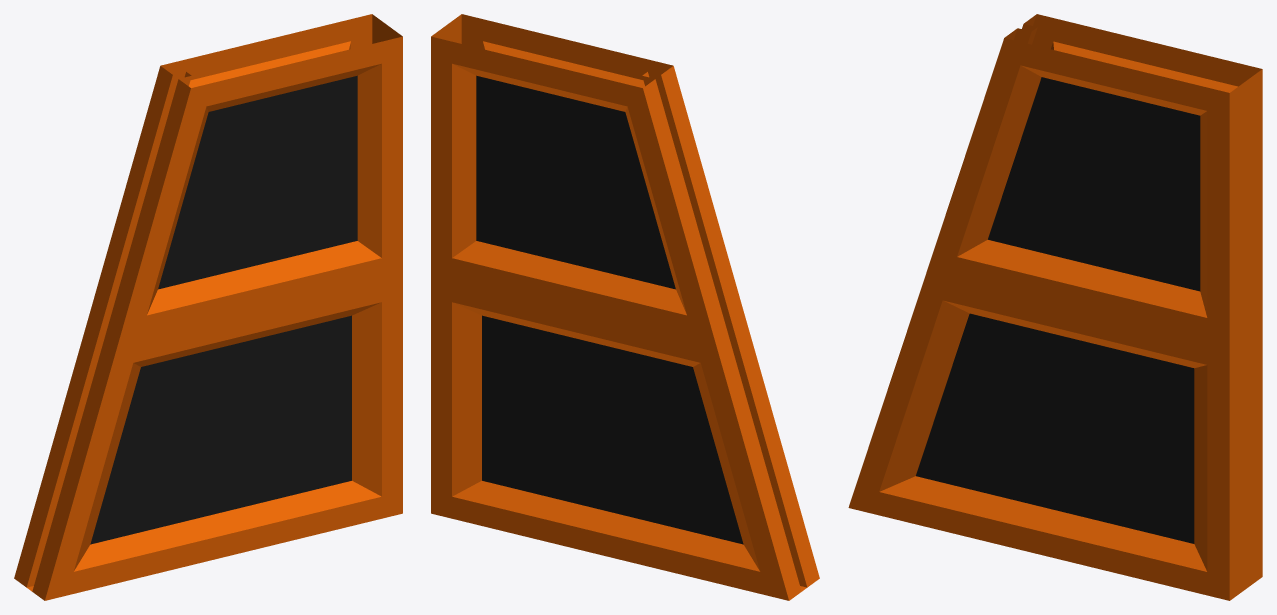
File: door_l.fbx
3 views of the same model, side by side, from view 1: azimuth 30°, elevation 25°; view 2: azimuth 150°, elevation 25°; view 3: azimuth 330°, elevation 25° (orthographic). The views are drawn at different scales.
Parts seen in each view (by area): view 1: door_l; view 2: door_l; view 3: door_l.
Part boxes in pixels (left/top/right/bottom): door_l: left=14, top=14, right=402, bottom=600; door_l: left=431, top=14, right=819, bottom=600; door_l: left=848, top=14, right=1262, bottom=600.
Bounding box in the file's own units: 335 × 426 × 49.82.
